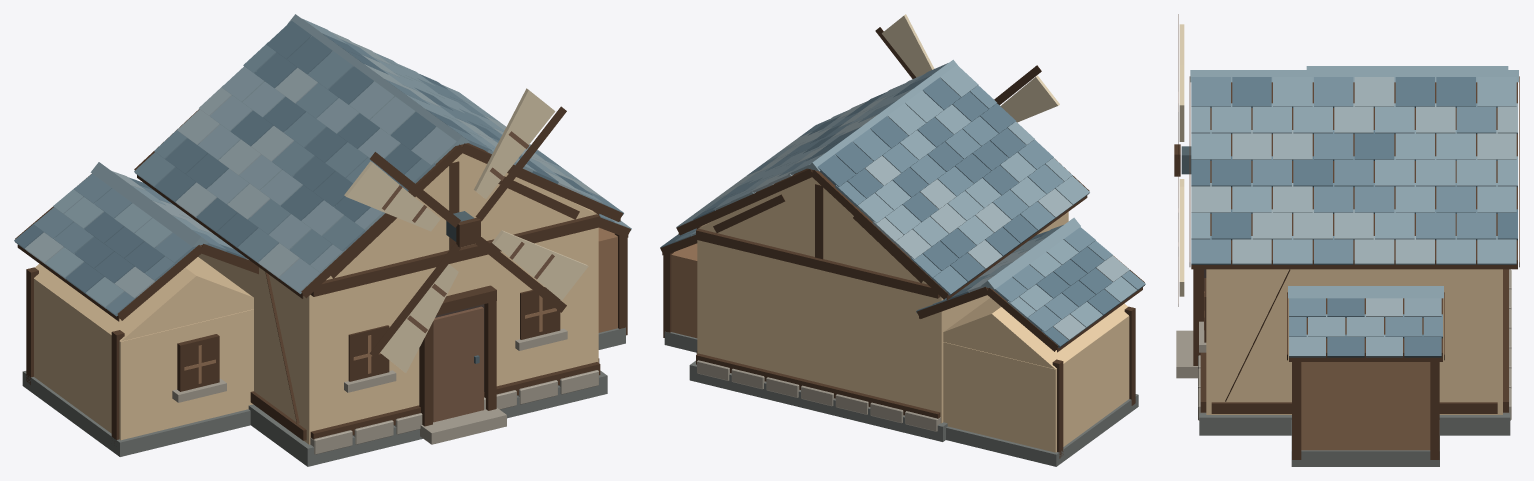
Rendered from ENV_Civic_mill_LOD0.glb.
The picture shows the model from 3 angles, left to right: view 1: azimuth 30°, elevation 25°; view 2: azimuth 150°, elevation 25°; view 3: azimuth 270°, elevation 25°; orthographic projection. The views are drawn at different scales.
Parts seen in each view (by area): view 1: ENV_Civic_mill_LOD0_roof_roofTiles, ENV_Civic_mill_LOD0_shell_plaster, ENV_Civic_mill_LOD0_stage6_wing_plaster, ENV_Civic_mill_LOD0_stage6_wing_roofTiles, ENV_Civic_mill_LOD0_shell_woodDark, ENV_Civic_mill_LOD0_mill_sails_plasterIvory, ENV_Civic_mill_LOD0_stage6_wing_woodDark, ENV_Civic_mill_LOD0_shell_wood, ENV_Civic_mill_LOD0_mill_sails_woodDark, ENV_Civic_mill_LOD0_foundation_stoneDark, ENV_Civic_mill_LOD0_roof_woodDark, ENV_Civic_mill_LOD0_stage6_wing_stoneDark (+6 smaller); view 2: ENV_Civic_mill_LOD0_roof_roofTiles, ENV_Civic_mill_LOD0_shell_plaster, ENV_Civic_mill_LOD0_stage6_wing_plaster, ENV_Civic_mill_LOD0_stage6_wing_roofTiles, ENV_Civic_mill_LOD0_shell_woodDark, ENV_Civic_mill_LOD0_roof_woodDark, ENV_Civic_mill_LOD0_foundation_stone, ENV_Civic_mill_LOD0_stage6_wing_woodDark, ENV_Civic_mill_LOD0_mill_sails_plasterIvory, ENV_Civic_mill_LOD0_stage6_wing_stoneDark, ENV_Civic_mill_LOD0_foundation_stoneDark, ENV_Civic_mill_LOD0_stage5_shed_woodLight (+3 smaller); view 3: ENV_Civic_mill_LOD0_roof_roofTiles, ENV_Civic_mill_LOD0_shell_plaster, ENV_Civic_mill_LOD0_stage5_shed_woodLight, ENV_Civic_mill_LOD0_stage5_shed_roofTiles, ENV_Civic_mill_LOD0_roof_woodDark, ENV_Civic_mill_LOD0_shell_woodDark, ENV_Civic_mill_LOD0_foundation_stoneDark, ENV_Civic_mill_LOD0_stage5_shed_woodDark, ENV_Civic_mill_LOD0_stage5_shed_stoneDark, ENV_Civic_mill_LOD0_mill_sails_plasterIvory, ENV_Civic_mill_LOD0_shell_stone, ENV_Civic_mill_LOD0_stage6_wing_roofTiles (+2 smaller).
Part boxes in pixels (x1,y1,x2,y2): ENV_Civic_mill_LOD0_roof_roofTiles: (134, 14, 623, 293); ENV_Civic_mill_LOD0_shell_plaster: (198, 153, 598, 444); ENV_Civic_mill_LOD0_stage6_wing_plaster: (34, 257, 253, 440); ENV_Civic_mill_LOD0_stage6_wing_roofTiles: (14, 162, 248, 316); ENV_Civic_mill_LOD0_shell_woodDark: (250, 161, 600, 440); ENV_Civic_mill_LOD0_mill_sails_plasterIvory: (344, 88, 588, 372); ENV_Civic_mill_LOD0_stage6_wing_woodDark: (15, 174, 258, 439); ENV_Civic_mill_LOD0_shell_wood: (433, 306, 483, 422); ENV_Civic_mill_LOD0_mill_sails_woodDark: (369, 106, 566, 357); ENV_Civic_mill_LOD0_foundation_stoneDark: (248, 370, 607, 466); ENV_Civic_mill_LOD0_roof_woodDark: (134, 109, 623, 298); ENV_Civic_mill_LOD0_stage6_wing_stoneDark: (22, 371, 250, 456); ENV_Civic_mill_LOD0_roof_roofTiles: (676, 59, 1089, 295); ENV_Civic_mill_LOD0_shell_plaster: (697, 177, 1068, 423); ENV_Civic_mill_LOD0_stage6_wing_plaster: (943, 298, 1129, 452); ENV_Civic_mill_LOD0_stage6_wing_roofTiles: (916, 217, 1145, 347); ENV_Civic_mill_LOD0_shell_woodDark: (696, 184, 940, 418); ENV_Civic_mill_LOD0_roof_woodDark: (676, 159, 1089, 300); ENV_Civic_mill_LOD0_foundation_stone: (697, 360, 940, 431); ENV_Civic_mill_LOD0_stage6_wing_woodDark: (917, 255, 1144, 458); ENV_Civic_mill_LOD0_mill_sails_plasterIvory: (882, 14, 1059, 122); ENV_Civic_mill_LOD0_stage6_wing_stoneDark: (946, 394, 1138, 466); ENV_Civic_mill_LOD0_foundation_stoneDark: (689, 360, 947, 441); ENV_Civic_mill_LOD0_stage5_shed_woodLight: (671, 243, 697, 338); ENV_Civic_mill_LOD0_roof_roofTiles: (1190, 70, 1518, 264); ENV_Civic_mill_LOD0_shell_plaster: (1206, 269, 1502, 414); ENV_Civic_mill_LOD0_stage5_shed_woodLight: (1301, 362, 1430, 450); ENV_Civic_mill_LOD0_stage5_shed_roofTiles: (1288, 286, 1443, 357); ENV_Civic_mill_LOD0_roof_woodDark: (1189, 76, 1519, 269); ENV_Civic_mill_LOD0_shell_woodDark: (1193, 269, 1508, 413); ENV_Civic_mill_LOD0_foundation_stoneDark: (1199, 413, 1510, 435); ENV_Civic_mill_LOD0_stage5_shed_woodDark: (1287, 292, 1444, 459); ENV_Civic_mill_LOD0_stage5_shed_stoneDark: (1291, 420, 1439, 466); ENV_Civic_mill_LOD0_mill_sails_plasterIvory: (1179, 24, 1184, 296); ENV_Civic_mill_LOD0_shell_stone: (1176, 321, 1206, 378); ENV_Civic_mill_LOD0_stage6_wing_roofTiles: (1306, 66, 1508, 69).
Size of the model in its own units: 8.76 by 5.49 by 5.25.
